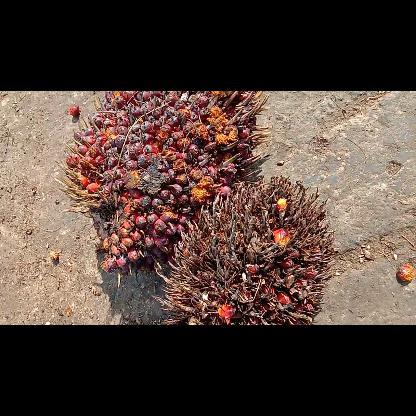TBS masak: (57, 90, 268, 286)
Terlalu masak: (156, 176, 336, 324)
